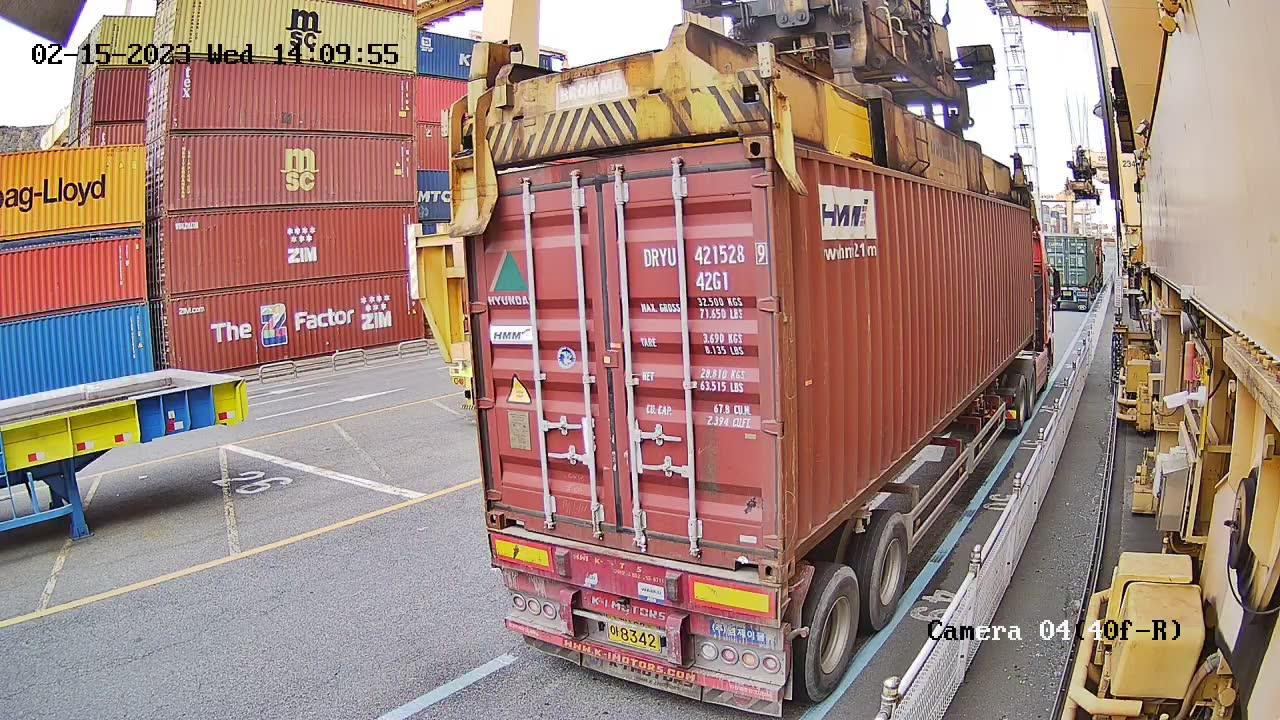Chassis: (490, 530, 783, 629)
Hole_L: (783, 507, 814, 583), (484, 480, 523, 532)
Hole_R: (729, 521, 782, 583)
Tire: (809, 568, 861, 698), (862, 510, 910, 631)
